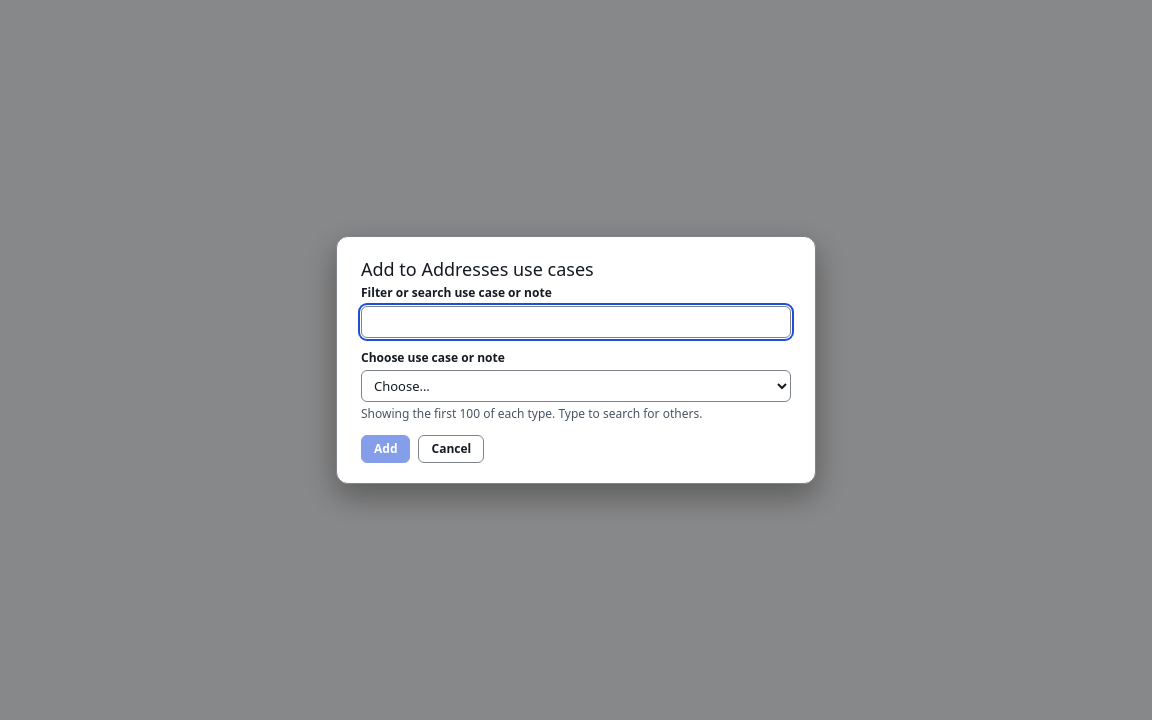
Scenario: the picker's search when the list is cut › covers end types of other modules, not only the first one's
Step 1. Type "elsewhere" into the field → (576, 322), box [361, 306, 791, 338]
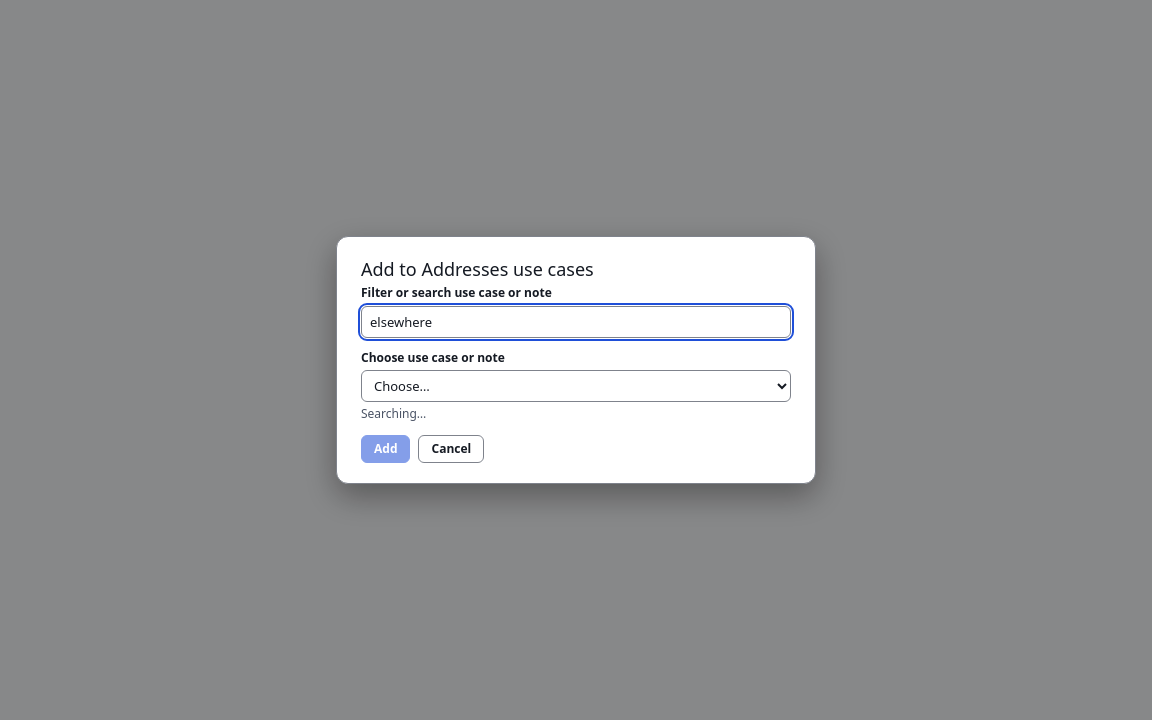
Expected: the dialog no longer shows "Showing the first", [336, 236, 816, 484]
